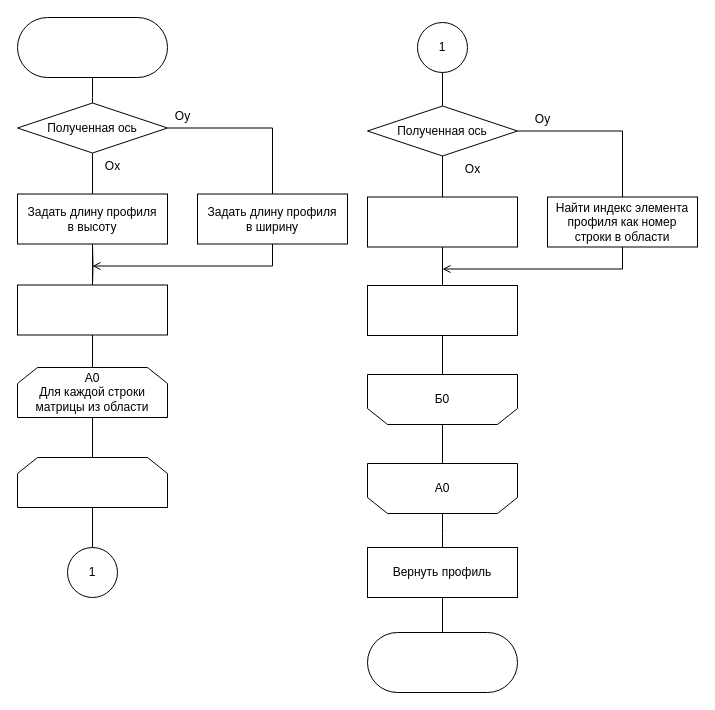
Image size: 715x710. Some labels were removed from this diagram. Each missing label, with the box of its shape:
Б0 Для каждого пикселя матрицы из строки: (16, 456, 168, 508)
Добавить к элементу бинарное значение пикселя: (366, 284, 518, 336)
Конец: (366, 632, 518, 692)
Найти индекс элемента профиля как номер столбца в области: (366, 196, 518, 247)
Начало: (16, 16, 168, 78)
Присвоить элементам профиля нули: (16, 284, 168, 335)
